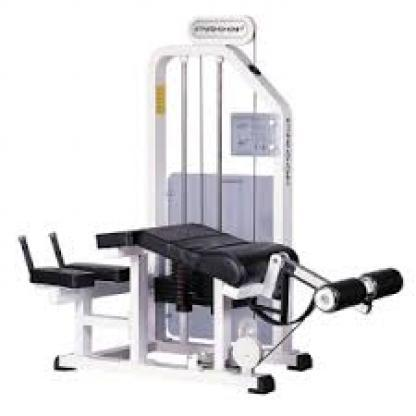reg curl machine: (15, 14, 406, 398)
